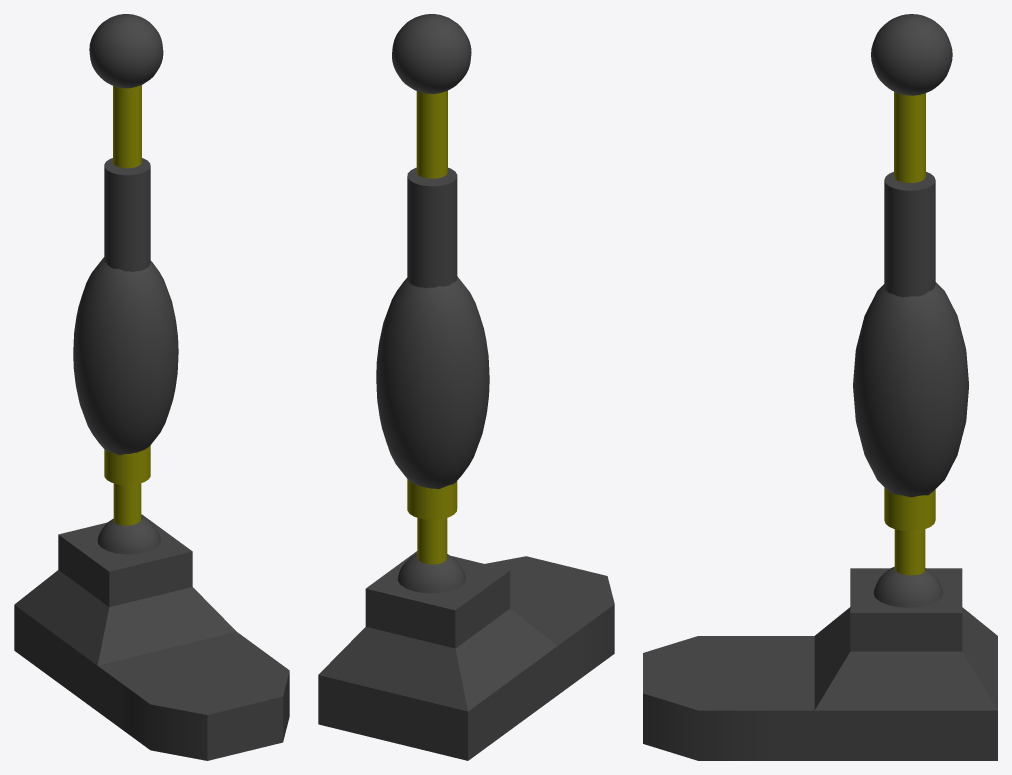
File: ChedRightLeg.fbx
3 views of the same model, side by side, from view 1: azimuth 30°, elevation 25°; view 2: azimuth 150°, elevation 25°; view 3: azimuth 270°, elevation 25° (orthographic). The views are drawn at different scales.
Visible parts, largest first — view 1: ChedRightLeg; view 2: ChedRightLeg; view 3: ChedRightLeg.
Boxes of the visible parts, left/top/right/bottom form: ChedRightLeg: left=14, top=14, right=289, bottom=760; ChedRightLeg: left=318, top=14, right=614, bottom=760; ChedRightLeg: left=643, top=14, right=997, bottom=760.
Bounding box in the file's own units: 0.4282 × 1.89 × 0.8593.
